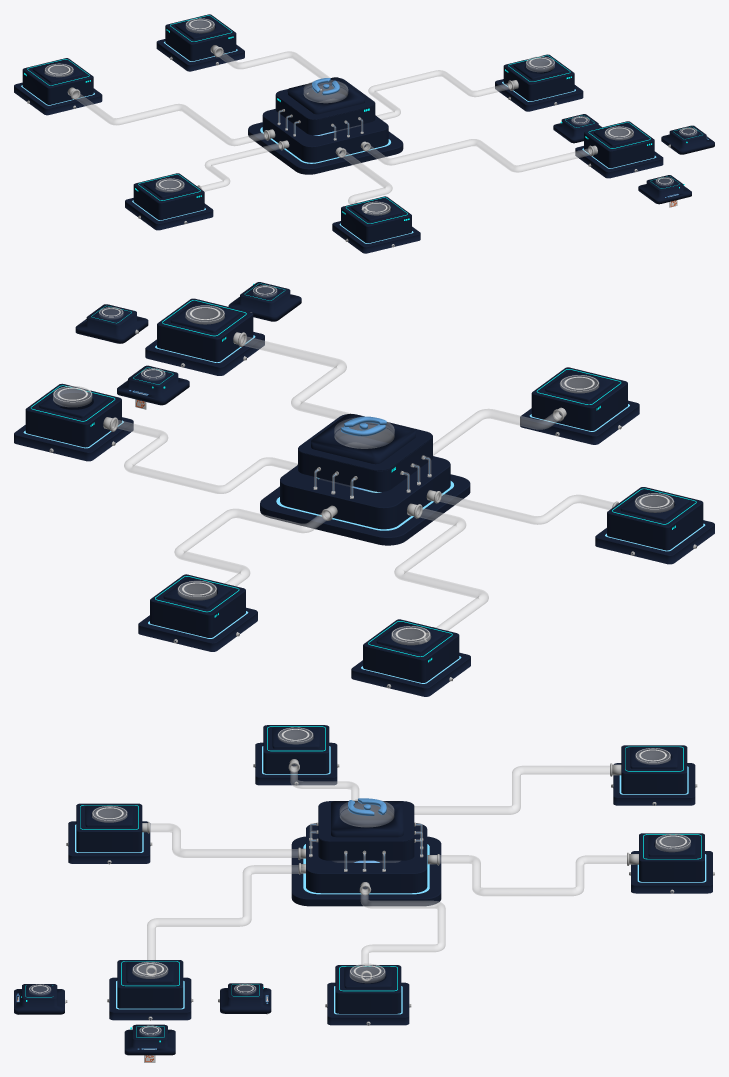
File: Synehcroncity(copy)_newHub(1).glb
3 views of the same model, one above another, from view 1: azimuth 30°, elevation 25°; view 2: azimuth 150°, elevation 25°; view 3: azimuth 270°, elevation 25° (orthographic). The views are drawn at different scales.
Visible parts, largest first — view 1: Synechron_platform.001, Sub_platform_CTO_Office, Sub_platform_Ai, Sub_platform_Cloud_Dev_ops, Sub_platform_Data, Sub_platform_payments, Sub_platform_Digital, Plane.006, Plane.003, Plane.004, Cube.014, Cube.010 (+12 smaller); view 2: Synechron_platform.001, Sub_platform_CTO_Office, Sub_platform_Digital, Sub_platform_payments, Sub_platform_Ai, Sub_platform_Data, Sub_platform_Cloud_Dev_ops, Plane.003, Plane.002, Plane.004, Cube.014, Plane.006 (+15 smaller); view 3: Synechron_platform.001, Sub_platform_Cloud_Dev_ops, Sub_platform_Data, Sub_platform_CTO_Office, Sub_platform_payments, Sub_platform_Ai, Sub_platform_Digital, Plane.006, Plane.003, Plane.002, Plane.004, Cube.014 (+14 smaller).
Part boxes in pixels (<box>): Synechron_platform.001: <box>248,78,403,174</box>; Sub_platform_CTO_Office: <box>125,173,213,230</box>; Sub_platform_Ai: <box>332,196,420,253</box>; Sub_platform_Cloud_Dev_ops: <box>495,54,583,111</box>; Sub_platform_Data: <box>575,121,663,178</box>; Sub_platform_payments: <box>14,58,102,115</box>; Sub_platform_Digital: <box>156,14,244,71</box>; Plane.006: <box>364,139,591,172</box>; Plane.003: <box>73,91,267,145</box>; Plane.004: <box>368,70,514,120</box>; Cube.014: <box>287,77,365,114</box>; Cube.010: <box>661,125,714,154</box>; Synechron_platform.001: <box>260,414,470,545</box>; Sub_platform_CTO_Office: <box>595,487,714,564</box>; Sub_platform_Digital: <box>138,574,257,651</box>; Sub_platform_payments: <box>351,619,470,696</box>; Sub_platform_Ai: <box>520,367,639,444</box>; Sub_platform_Data: <box>145,298,264,375</box>; Sub_platform_Cloud_Dev_ops: <box>14,383,133,461</box>; Plane.003: <box>394,507,488,638</box>; Plane.002: <box>174,509,330,585</box>; Plane.004: <box>112,420,297,493</box>; Cube.014: <box>311,413,415,464</box>; Plane.006: <box>241,336,351,419</box>; Synechron_platform.001: <box>291,801,441,906</box>; Sub_platform_Cloud_Dev_ops: <box>327,965,409,1025</box>; Sub_platform_Data: <box>109,960,191,1020</box>; Sub_platform_CTO_Office: <box>255,725,337,785</box>; Sub_platform_payments: <box>613,745,695,805</box>; Sub_platform_Ai: <box>68,803,150,863</box>; Sub_platform_Digital: <box>631,833,712,893</box>; Plane.006: <box>147,865,305,959</box>; Plane.003: <box>414,766,609,814</box>; Plane.002: <box>440,855,626,895</box>; Plane.004: <box>361,887,445,964</box>; Cube.014: <box>331,801,403,837</box>.
Bounding box in the file's own units: 38.46 × 4.92 × 37.34.
